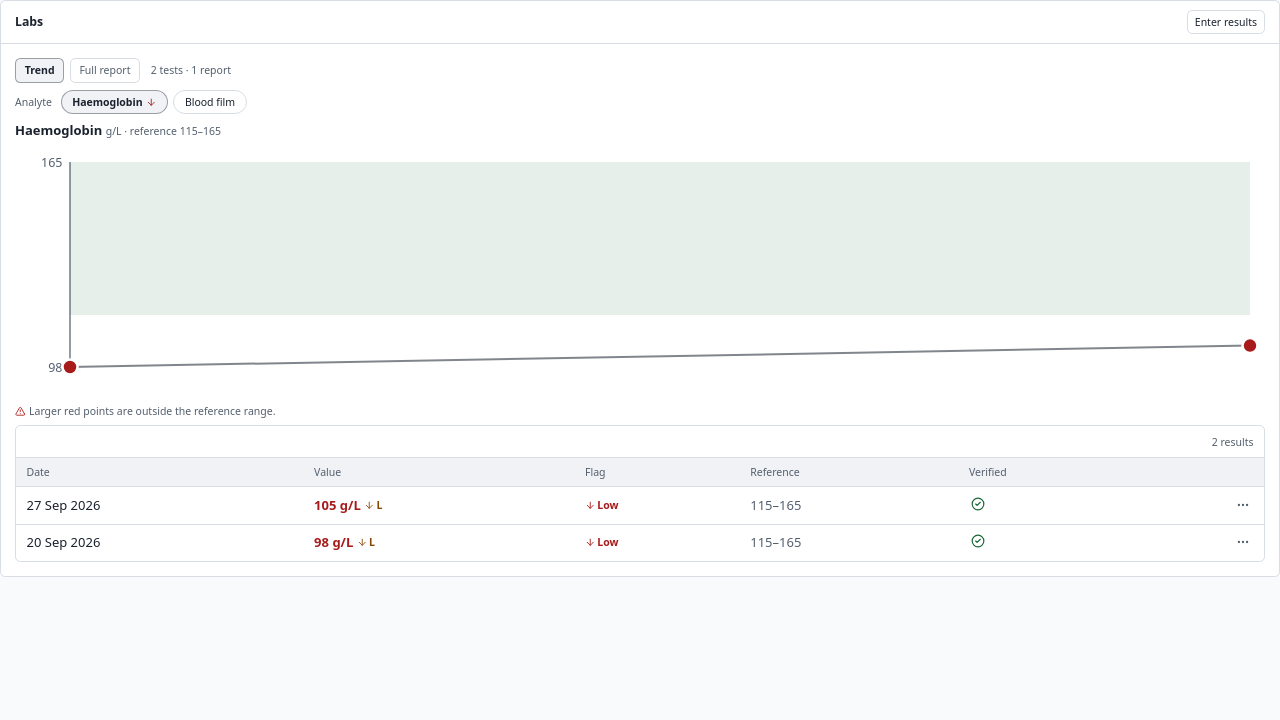
Labs › lists results with their flags from the report's range
Step 1. Click the button "Full report" → click(105, 70), box [70, 58, 140, 82]
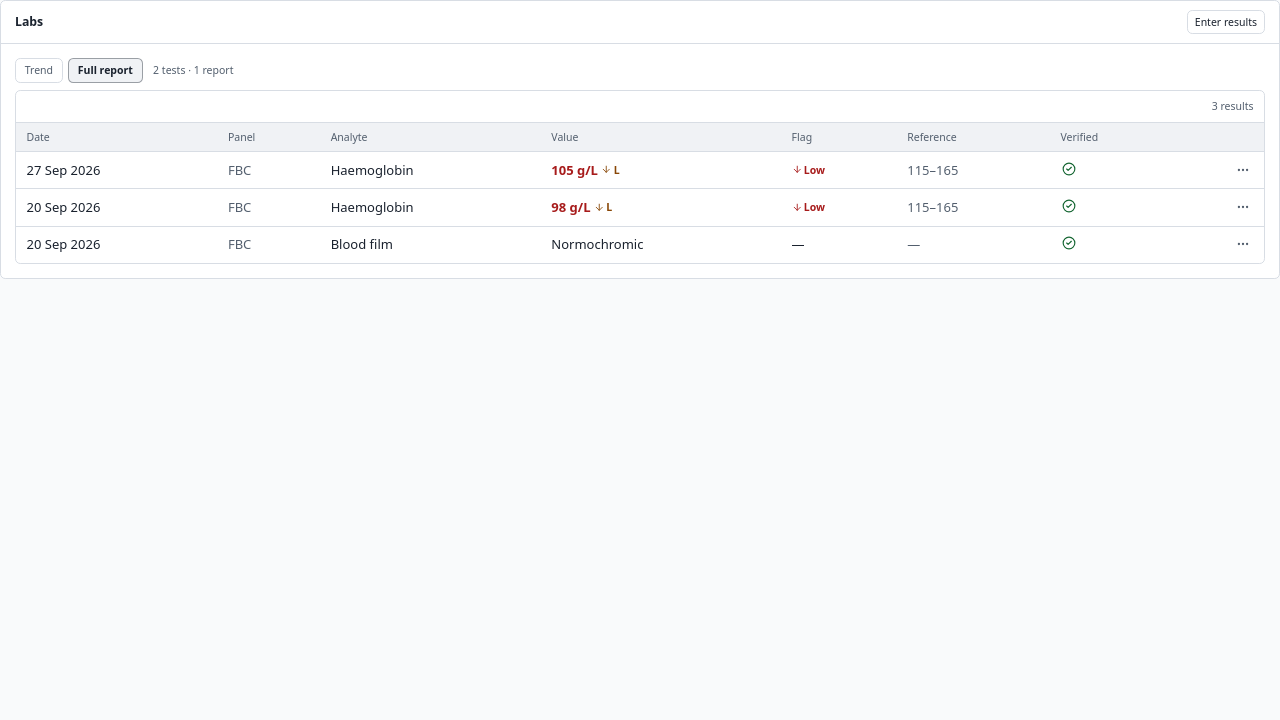
Check: the text "Haemoglobin" shows "98 g/L", box [16, 189, 1264, 226]
Check: the text "Haemoglobin" shows "Low", box [804, 200, 825, 214]
Check: the text "Haemoglobin" shows "115–165", box [907, 198, 958, 216]
